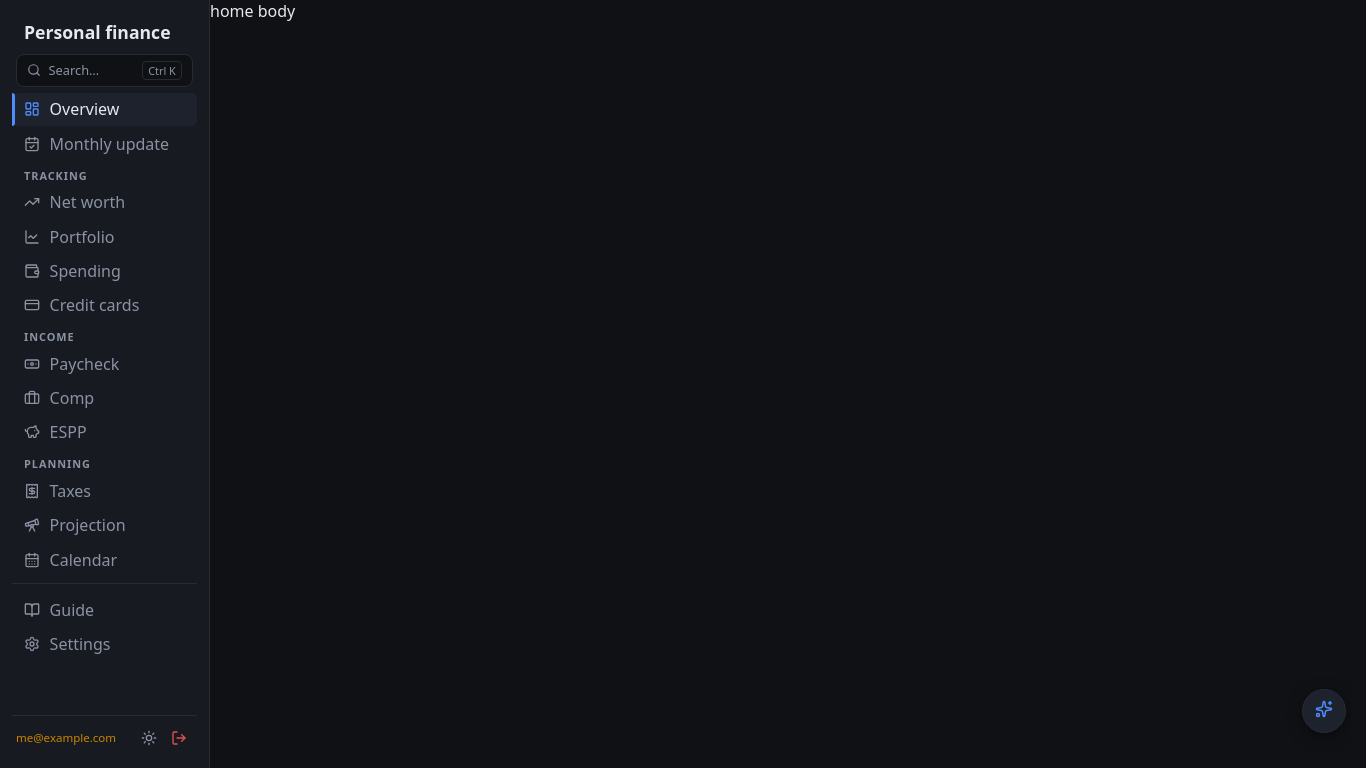
Test case: Layout — assistant mount › offers a visible search row that opens the palette
(page scrolled)
Expected: the text "Search…" is shown, [49,61,99,79]
Expected: the text "Ctrl K" is shown, [142,61,182,80]
Step 1. Click the button "Search… Ctrl K" → (104, 70), box [16,54,193,87]
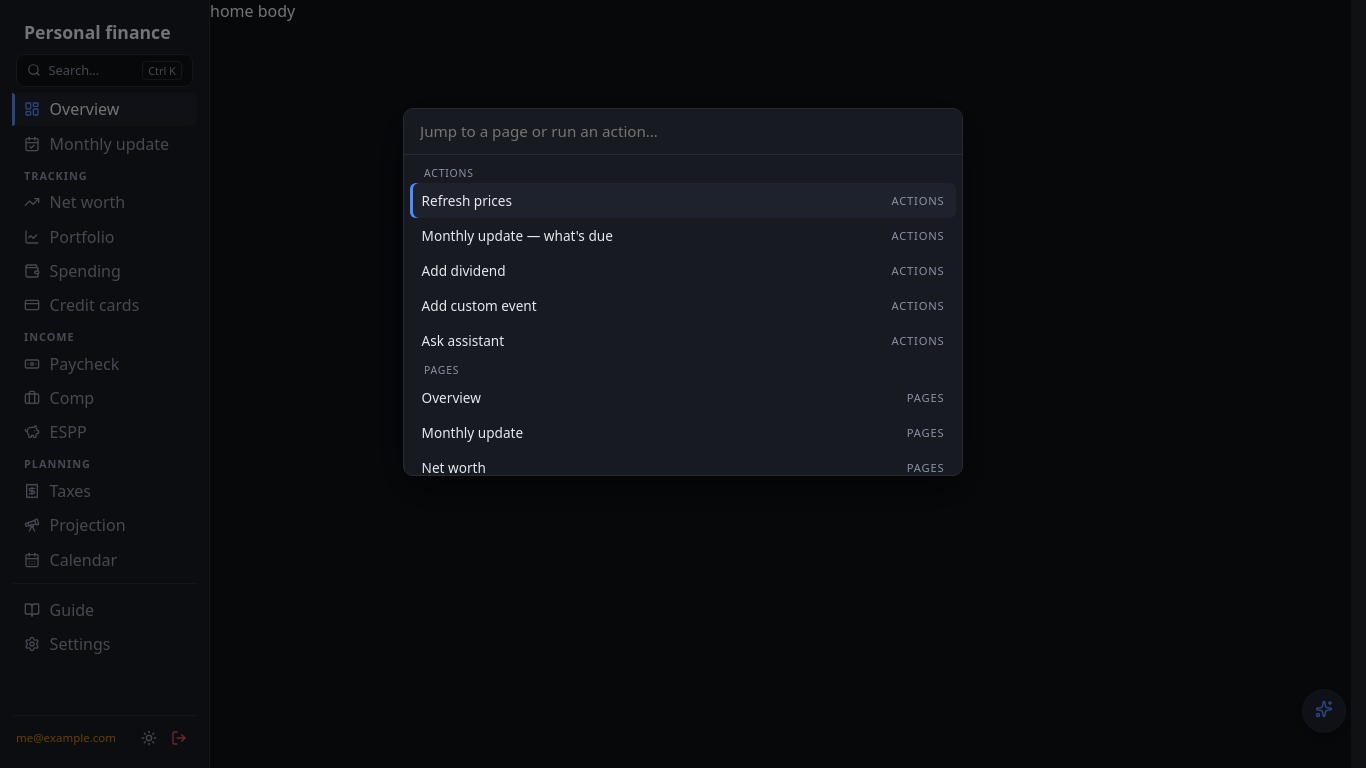
Expected: the dropdown named "Command palette" is shown, [404,108,962,155]
